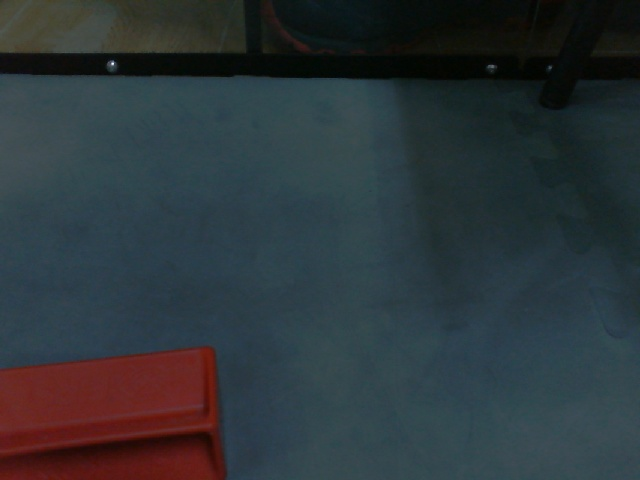RedSample: (1, 343, 231, 480)
